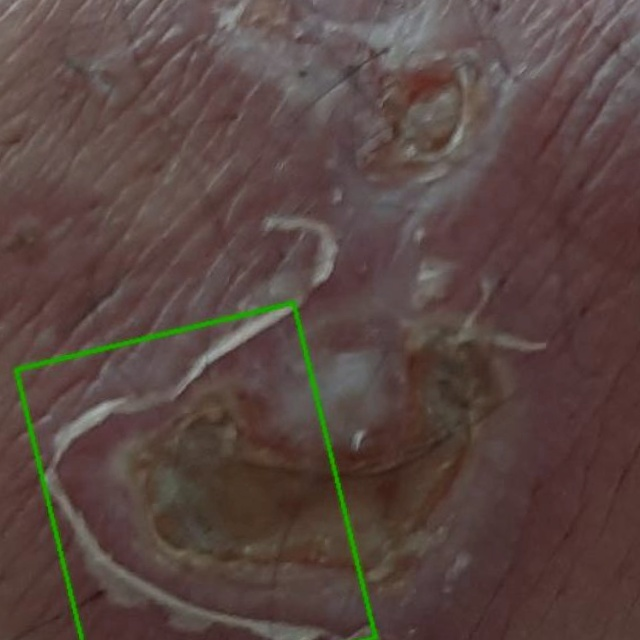Contact Dermatitis: (15, 302, 375, 639)
